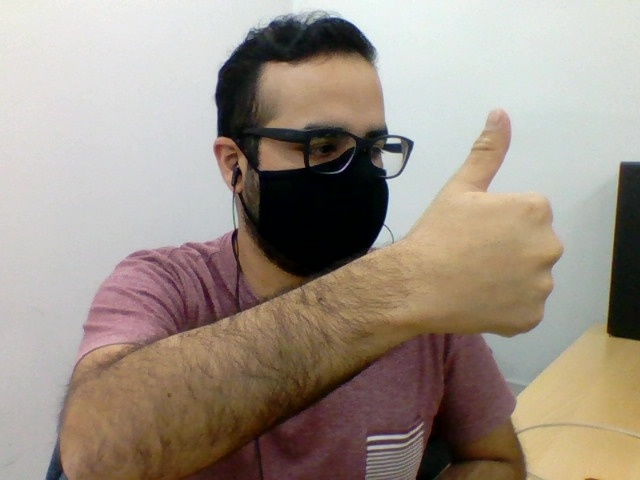ThumbsUp: (405, 108, 568, 339)
